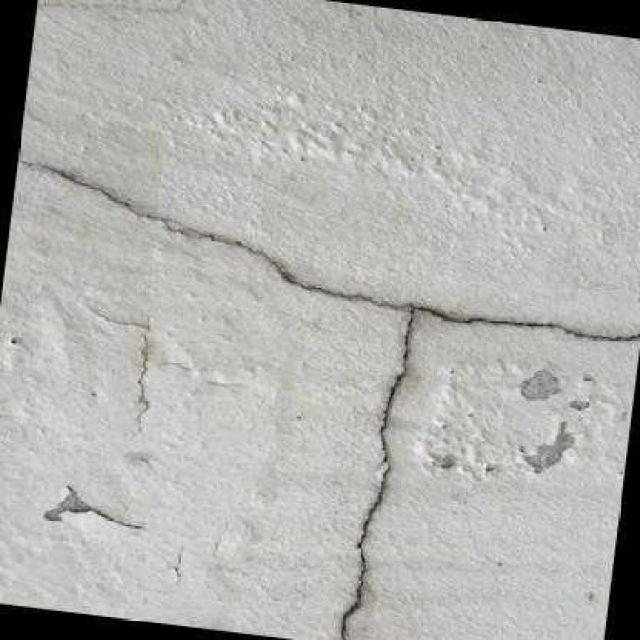D00: (17, 148, 640, 640)
